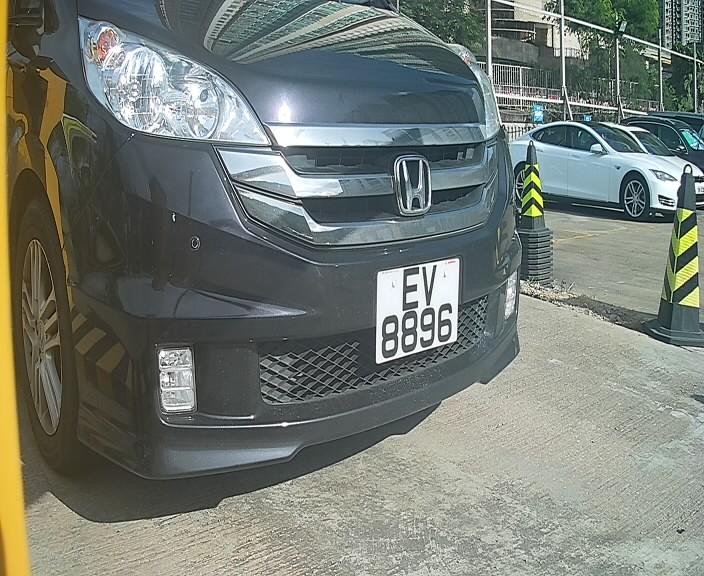Car: (7, 1, 547, 517)
License Plate: (365, 245, 469, 373)
